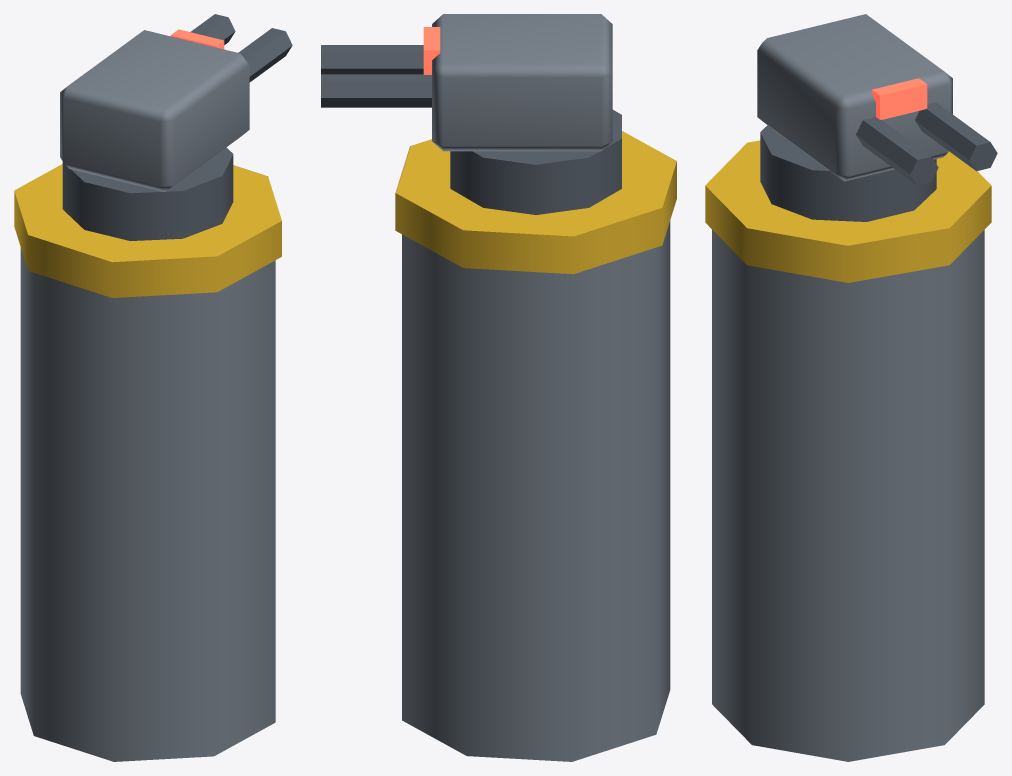
The model's file is fort_l7_post.glb.
3 views of the same model, side by side, from view 1: azimuth 30°, elevation 25°; view 2: azimuth 150°, elevation 25°; view 3: azimuth 270°, elevation 25° (orthographic). The views are drawn at different scales.
Parts seen in each view (by area): view 1: fort_l7_post; view 2: fort_l7_post; view 3: fort_l7_post.
Boxes of the visible parts, x1,y1,x2,y2 form: fort_l7_post: (14, 14, 292, 761); fort_l7_post: (321, 14, 676, 761); fort_l7_post: (705, 14, 997, 761).
Size of the model in its own units: 0.2577 by 0.53 by 0.2145.
Materials: 2 (1 with a texture image).
